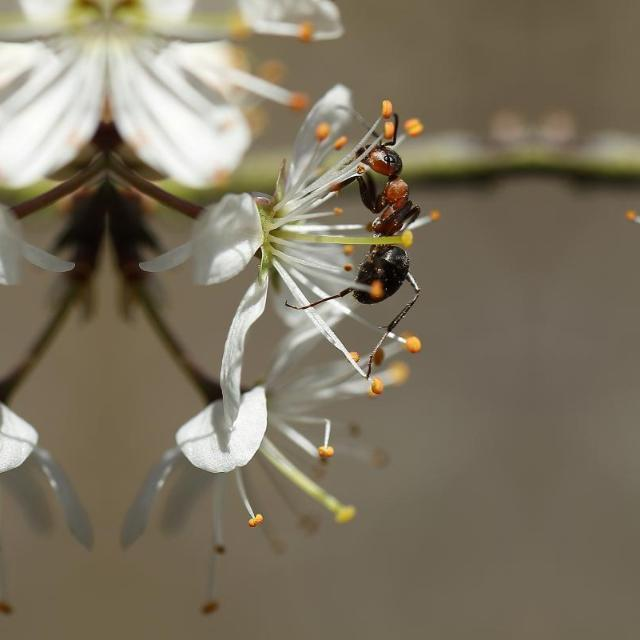Formica: (319, 111, 446, 321)
